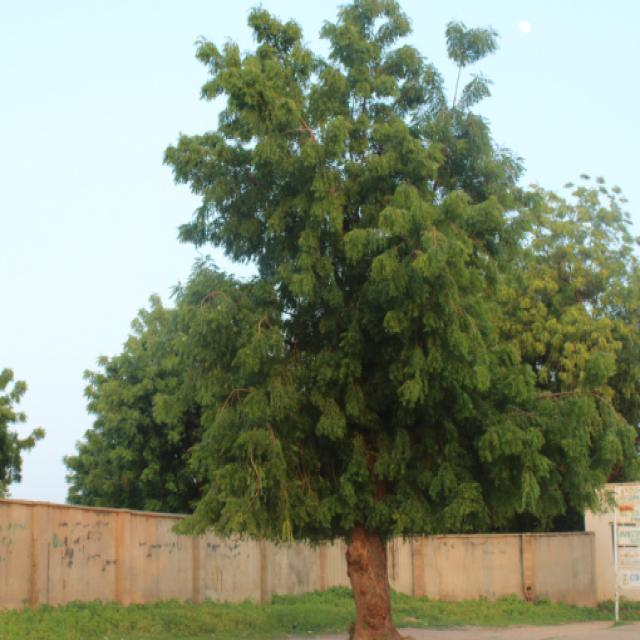Neem-Tree: (159, 53, 530, 640)
